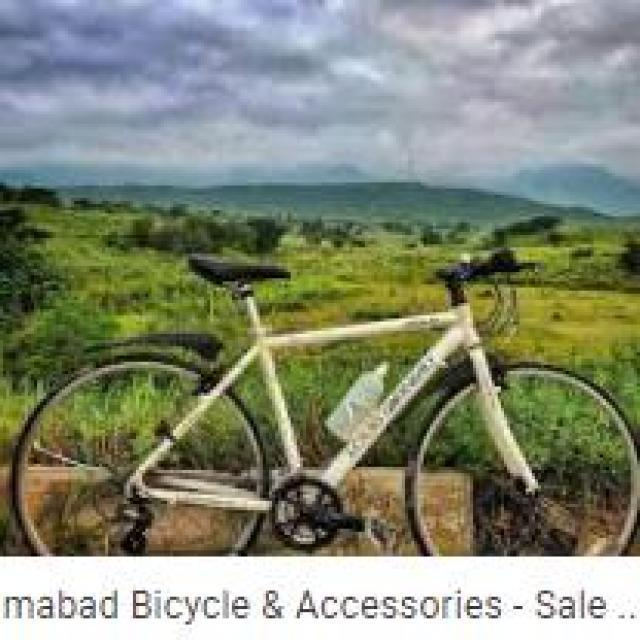bicycle: (10, 252, 640, 561)
